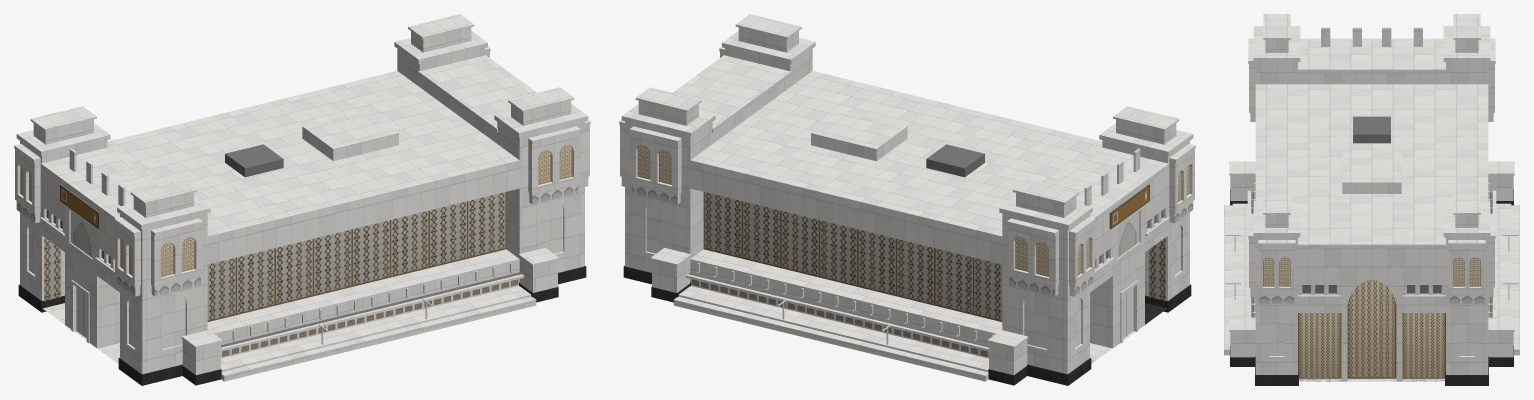
File: haram-restroom-a-west.glb
3 renders of one model, left to right at view 1: azimuth 30°, elevation 25°; view 2: azimuth 150°, elevation 25°; view 3: azimuth 270°, elevation 25°, orthographic. The views are drawn at different scales.
Visible parts, largest first — view 1: Restroom; view 2: Restroom; view 3: Restroom.
Boxes of the visible parts, x1,y1,x2,y2 form: Restroom: [14, 14, 590, 385]; Restroom: [619, 14, 1195, 385]; Restroom: [1224, 14, 1519, 385].
Size of the model in its own units: 23.72 by 8.85 by 14.
14 materials, 12 textured.
